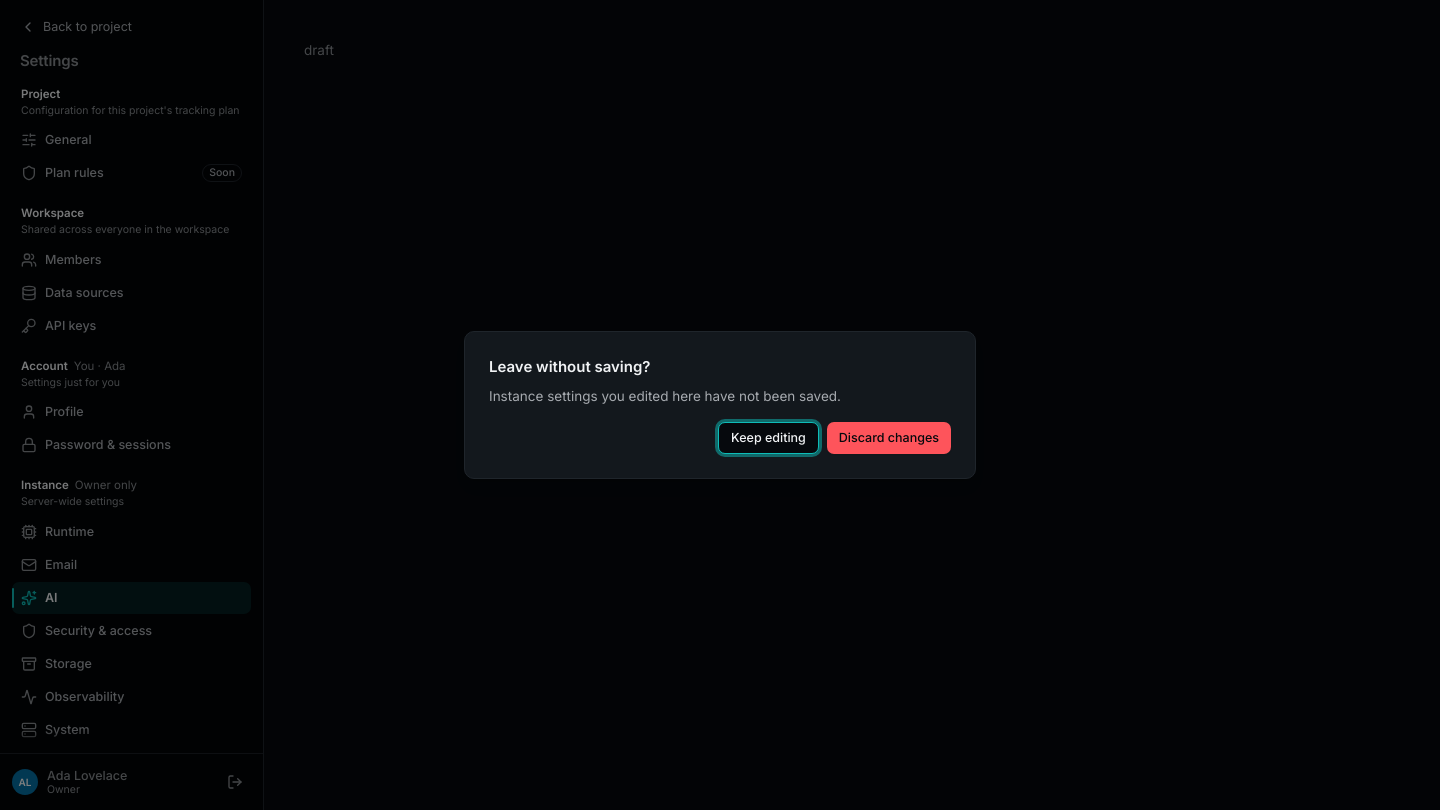
Test: SettingsLayout unsaved-changes guard › stays put when the reader cancels a Back press
Click the button "Keep editing": (768, 438) [718,422,819,454]
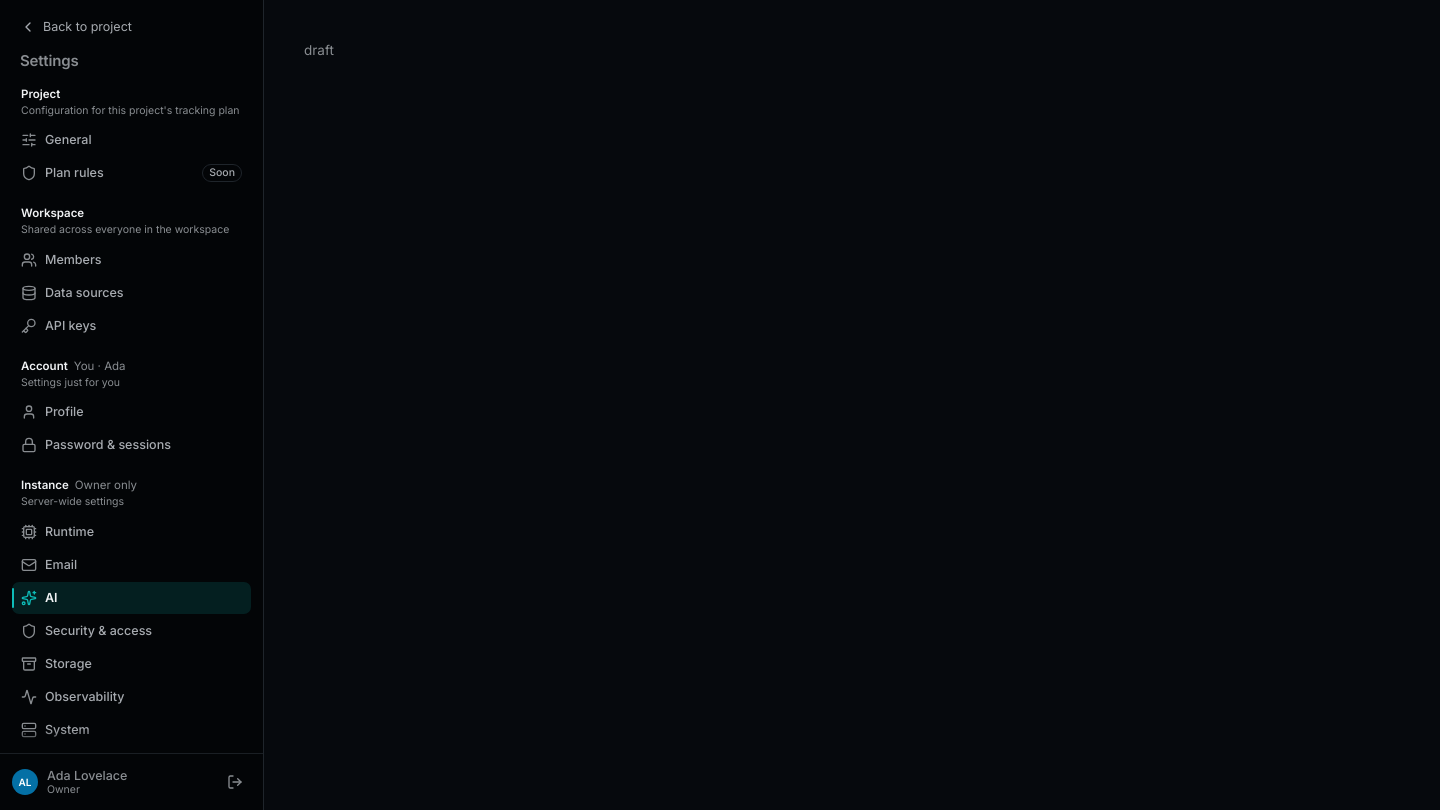
Expected: the dialog is gone
